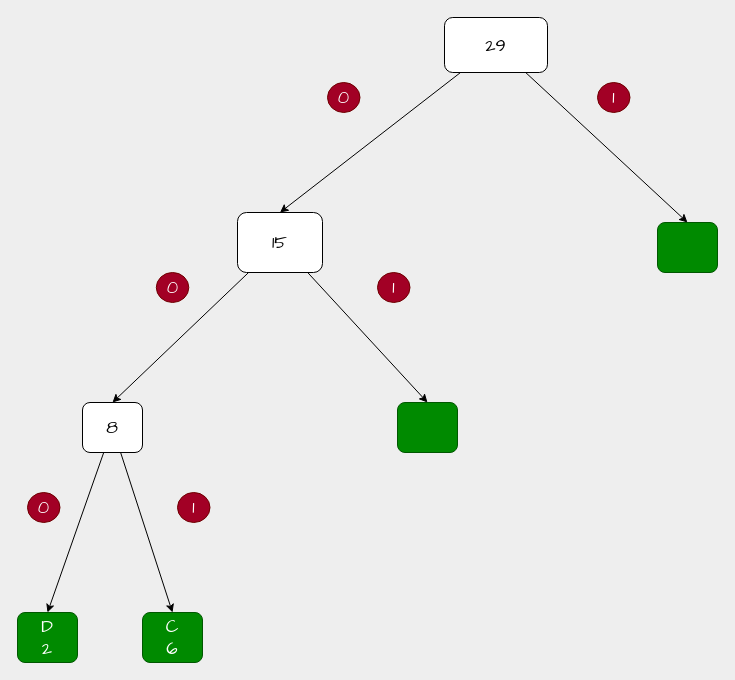
Some shapes in this 735 by 680 pixel diagram are drawn without their labels. Each missing label, with the centre of its shape:
"A 14" goes at point 687,247.
"B 7" goes at point 427,427.
